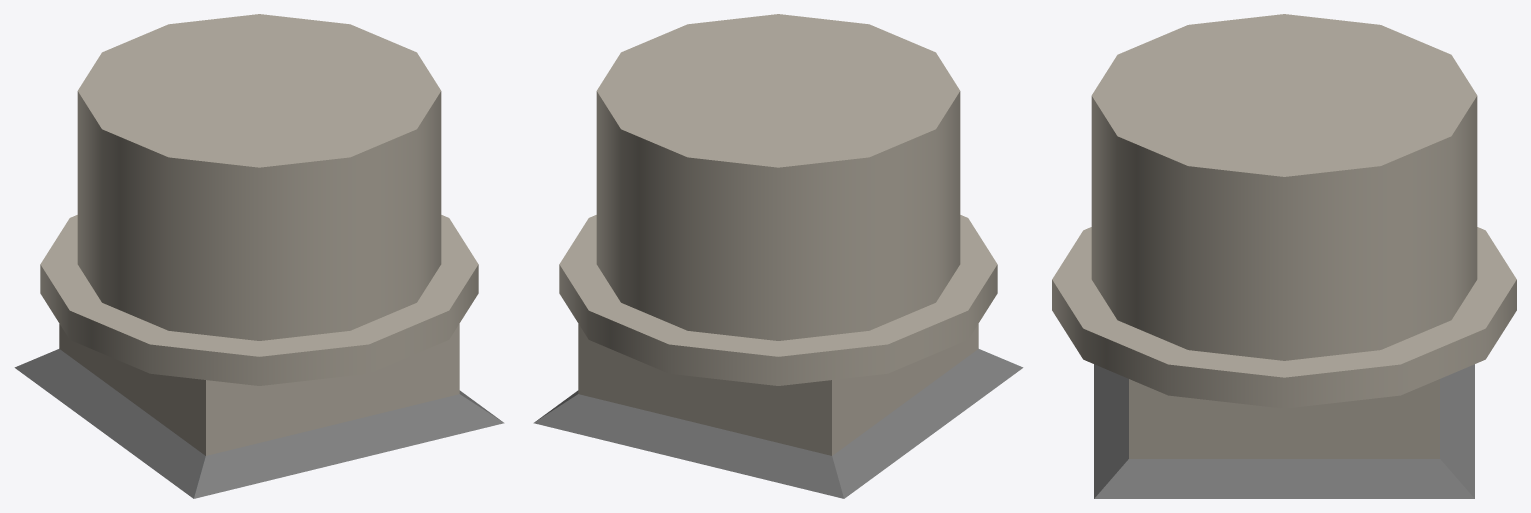
File: SM_Conditioner_04.fbx
The picture shows the model from 3 angles, left to right: view 1: azimuth 30°, elevation 25°; view 2: azimuth 150°, elevation 25°; view 3: azimuth 270°, elevation 25°; orthographic projection. The views are drawn at different scales.
Visible parts, largest first — view 1: SM_Conditioner_04; view 2: SM_Conditioner_04; view 3: SM_Conditioner_04.
Boxes of the visible parts, x1,y1,x2,y2 form: SM_Conditioner_04: (14,14,504,498); SM_Conditioner_04: (533,14,1023,498); SM_Conditioner_04: (1052,14,1516,498).
Bounding box in the file's own units: 52.13 × 39.98 × 52.13.
1 material, 1 textured.
